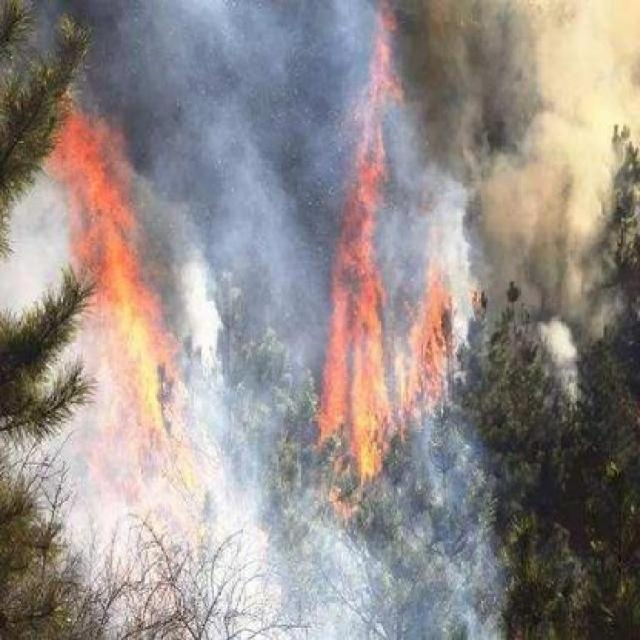Fire: (327, 1, 455, 548), (49, 76, 187, 484)
Smoke: (191, 106, 328, 629), (95, 0, 359, 108), (341, 556, 511, 640)
